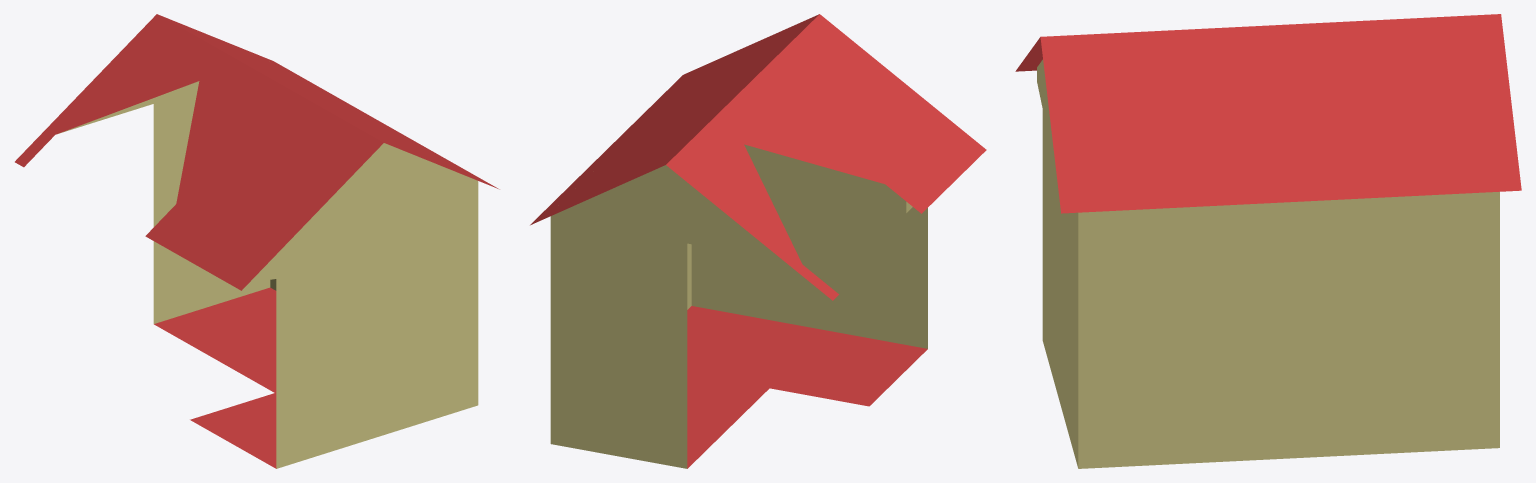
3 renders of one model, left to right at view 1: azimuth 30°, elevation 25°; view 2: azimuth 150°, elevation 25°; view 3: azimuth 270°, elevation 25°, orthographic. The views are drawn at different scales.
Bounding box in the file's own units: 11.36 × 12.91 × 10.32.
